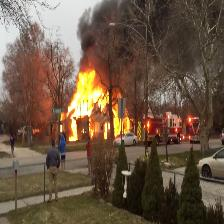fire: (69, 75, 120, 136)
